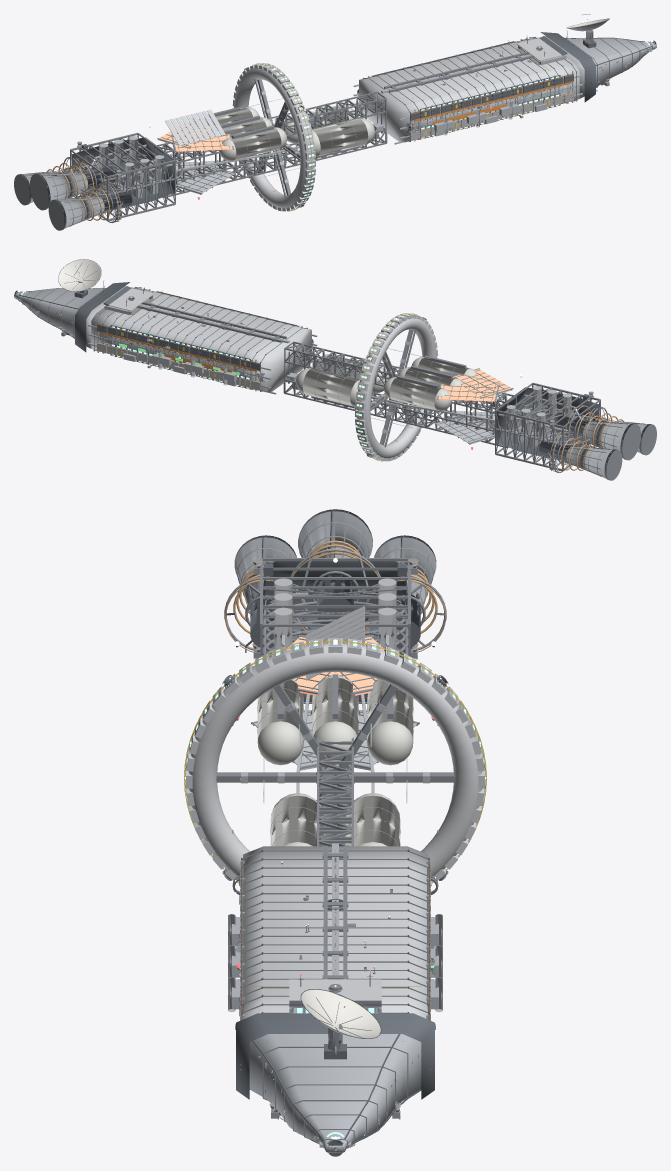
File: dsx-01_full_ship.glb
3 renders of one model, top to bottom at view 1: azimuth 30°, elevation 25°; view 2: azimuth 150°, elevation 25°; view 3: azimuth 270°, elevation 25°, orthographic. The views are drawn at different scales.
Visible parts, largest first — view 1: HULL_PressureShell_HabBlock, SPINE_PropellantTanks, PROP_MainTorchNozzles, SPINE_MainTruss, CENTRIFUGE_HabitatRing, PROP_ThrustStructure, HULL_BowSection, HULL_ArmourBelt, HULL_EngineeringCore, THERMAL_RadiatorWings, HULL_DeckStrakes, PROP_HeatExchangers (+10 smaller); view 2: HULL_PressureShell_HabBlock, SPINE_PropellantTanks, PROP_MainTorchNozzles, SPINE_MainTruss, CENTRIFUGE_HabitatRing, PROP_ThrustStructure, THERMAL_RadiatorWings, HULL_BowSection, HULL_ArmourBelt, HULL_EngineeringCore, HULL_DeckStrakes, PROP_HeatExchangers (+8 smaller); view 3: HULL_PressureShell_HabBlock, CENTRIFUGE_HabitatRing, HULL_BowSection, SPINE_PropellantTanks, PROP_MainTorchNozzles, PROP_ThrustStructure, HULL_FrameRings, HULL_WhippleShield, HULL_EngineeringCore, CENTRIFUGE_SpokesAndHub, SPINE_MainTruss, SENSORS_MainHighGainAntenna (+8 smaller).
Part boxes in pixels (left/top/right/bottom): HULL_PressureShell_HabBlock: left=359, top=37, right=579, bottom=142; SPINE_PropellantTanks: left=149, top=104, right=374, bottom=173; PROP_MainTorchNozzles: left=14, top=162, right=132, bottom=230; SPINE_MainTruss: left=154, top=91, right=387, bottom=197; CENTRIFUGE_HabitatRing: left=232, top=63, right=315, bottom=211; PROP_ThrustStructure: left=62, top=132, right=175, bottom=223; HULL_BowSection: left=545, top=36, right=656, bottom=98; HULL_ArmourBelt: left=388, top=55, right=574, bottom=140; HULL_EngineeringCore: left=69, top=137, right=183, bottom=209; THERMAL_RadiatorWings: left=157, top=118, right=236, bottom=194; HULL_DeckStrakes: left=353, top=37, right=582, bottom=144; PROP_HeatExchangers: left=89, top=136, right=172, bottom=198; HULL_PressureShell_HabBlock: left=91, top=287, right=311, bottom=392; SPINE_PropellantTanks: left=296, top=354, right=521, bottom=423; PROP_MainTorchNozzles: left=538, top=412, right=656, bottom=480; SPINE_MainTruss: left=283, top=341, right=516, bottom=447; CENTRIFUGE_HabitatRing: left=355, top=313, right=438, bottom=461; PROP_ThrustStructure: left=495, top=382, right=608, bottom=472; THERMAL_RadiatorWings: left=434, top=368, right=513, bottom=444; HULL_BowSection: left=14, top=286, right=131, bottom=348; HULL_ArmourBelt: left=96, top=305, right=283, bottom=390; HULL_EngineeringCore: left=487, top=387, right=601, bottom=459; HULL_DeckStrakes: left=88, top=287, right=317, bottom=394; PROP_HeatExchangers: left=498, top=386, right=581, bottom=448; HULL_PressureShell_HabBlock: left=243, top=846, right=427, bottom=1018; CENTRIFUGE_HabitatRing: left=184, top=638, right=486, bottom=885; HULL_BowSection: left=249, top=1034, right=421, bottom=1156; SPINE_PropellantTanks: left=257, top=674, right=413, bottom=846; PROP_MainTorchNozzles: left=233, top=509, right=437, bottom=647; PROP_ThrustStructure: left=224, top=548, right=446, bottom=711; HULL_FrameRings: left=241, top=849, right=429, bottom=1015; HULL_WhippleShield: left=236, top=1013, right=434, bottom=1099; HULL_EngineeringCore: left=262, top=561, right=408, bottom=701; CENTRIFUGE_SpokesAndHub: left=216, top=684, right=454, bottom=806; SPINE_MainTruss: left=317, top=737, right=353, bottom=846; SENSORS_MainHighGainAntenna: left=300, top=989, right=381, bottom=1059.
Bounding box in the file's own units: 492 × 105 × 105.
